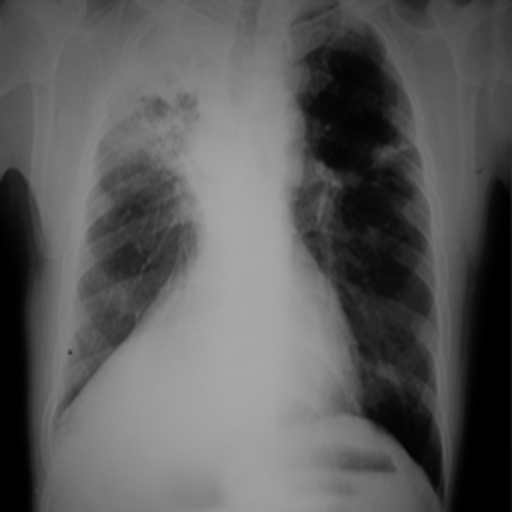TB: (83, 18, 206, 186)
